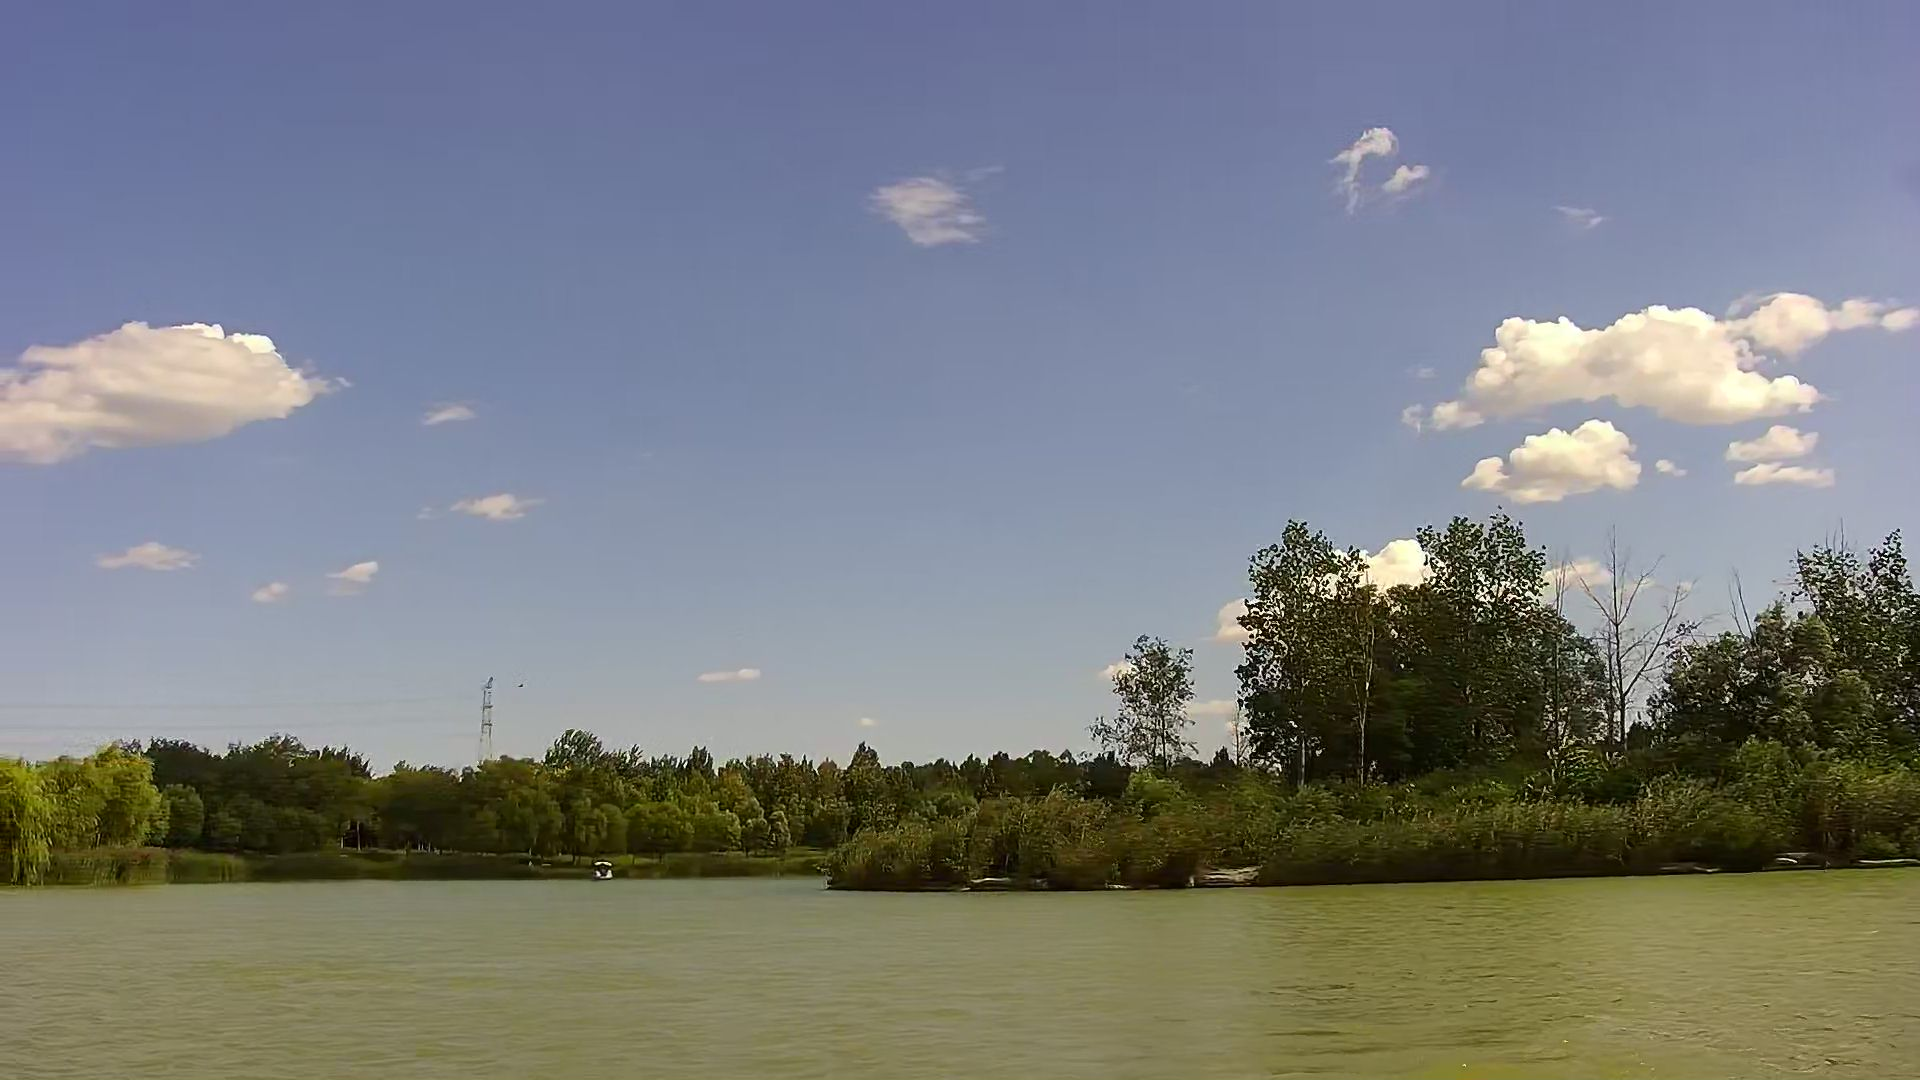rock: (1196, 865, 1263, 887), (973, 873, 1033, 891)
